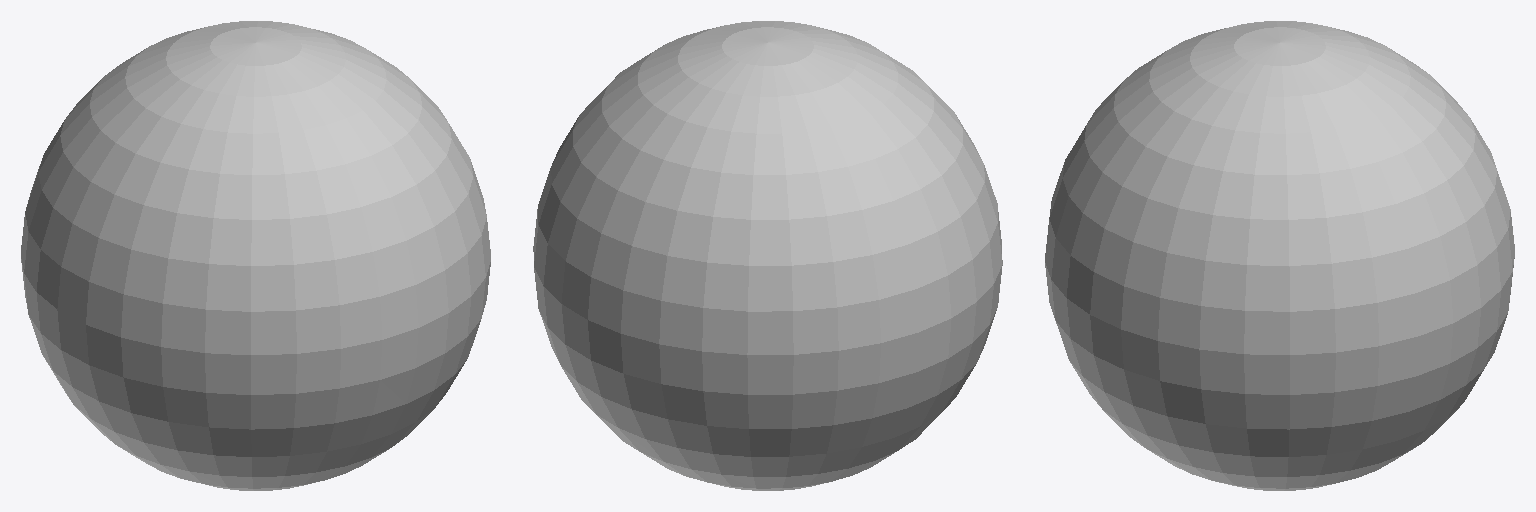
Rendered from Voltorb.obj.
3 views of the same model, side by side, from view 1: azimuth 30°, elevation 25°; view 2: azimuth 150°, elevation 25°; view 3: azimuth 270°, elevation 25° (orthographic).
Parts seen in each view (by area): view 1: Voltorb; view 2: Voltorb; view 3: Voltorb.
Boxes of the visible parts, <box> form: Voltorb: <box>21,21,490,490</box>; Voltorb: <box>533,21,1002,490</box>; Voltorb: <box>1045,21,1514,490</box>.
Bounding box in the file's own units: 5.77 × 5.77 × 5.77.